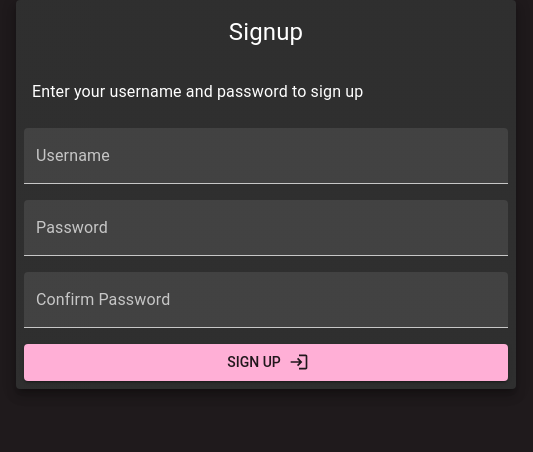
Scenario: Signup › gives an error when › passwords do not match
The image size is (533, 452).
# Passwords do not match
Step 1. Type "test" into the password field labelled "Password" → (266,228), box [24, 200, 508, 256]
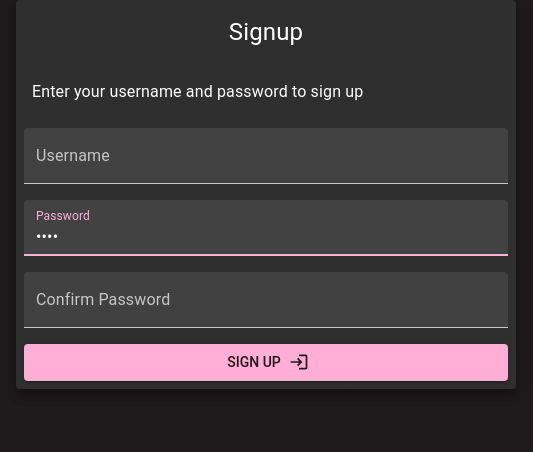
Step 2. Type "test1" into the password field labelled "Confirm Password" → (266,300), box [24, 272, 508, 328]
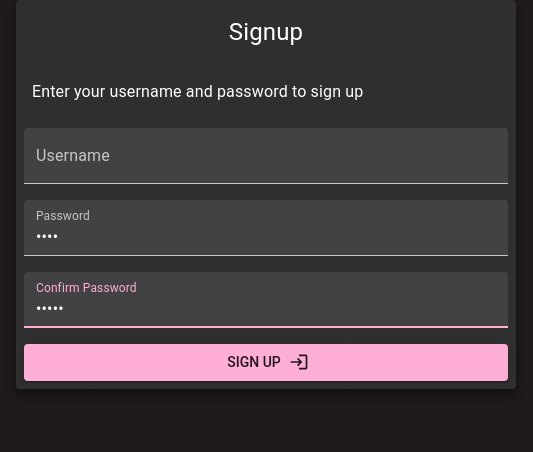
Step 3. Click the button "Sign up" → (266,362), box [24, 344, 508, 380]
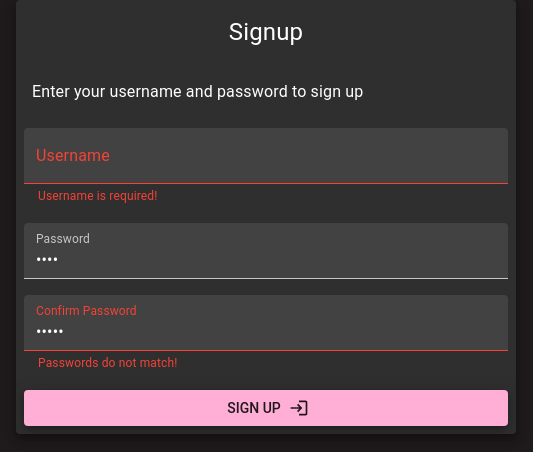
Expected: the text "Passwords do not match!" is shown, [38, 356, 178, 370]
